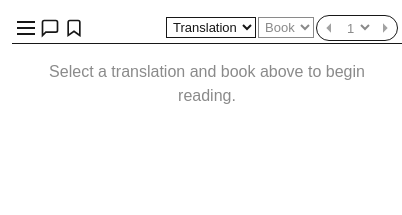
Scenario: closing Settings returns to the Reader
Click the button named "Menu": (26, 28) [14,16,38,40]
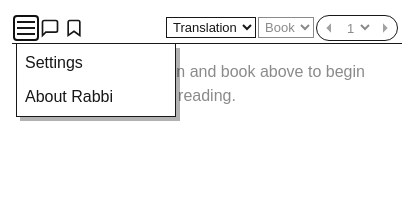
Click the button "Settings": (96, 63) [17,46,175,80]
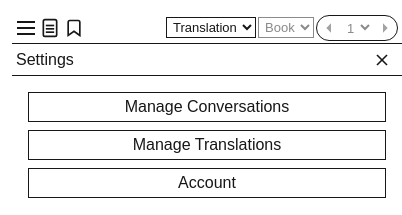
Result: the heading "Settings" is shown at [16,50,74,68]
Click the button named "Close": (382, 60) [366,44,398,76]
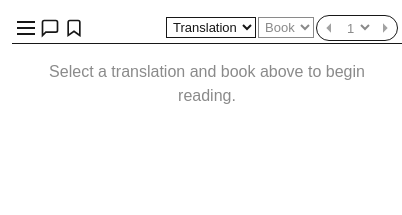
Result: the text "Select a translation and book above to begin reading." is shown at [49,63,365,104]
